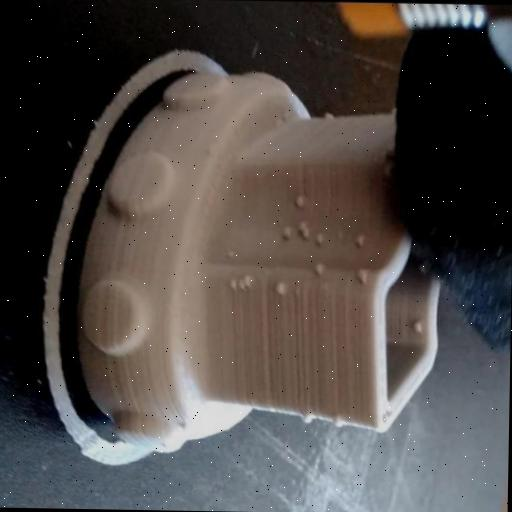blobs: (310, 224, 328, 248), (288, 190, 309, 210), (354, 266, 372, 289), (330, 412, 350, 430), (312, 258, 330, 278), (352, 226, 367, 249), (241, 270, 260, 288), (296, 218, 313, 238), (322, 110, 340, 128), (278, 220, 294, 240), (273, 280, 288, 298), (302, 408, 316, 426), (228, 274, 242, 292), (410, 320, 422, 334)
